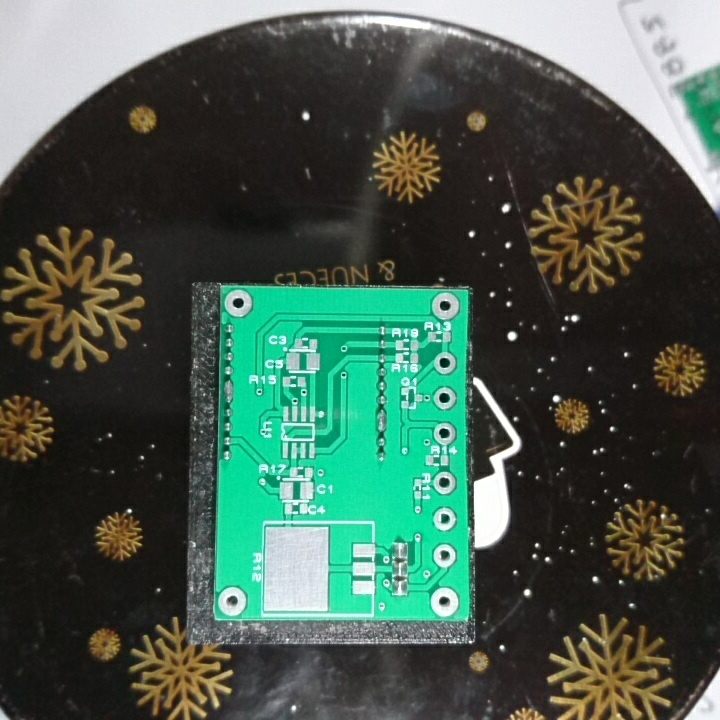F: (218, 585, 251, 620), (428, 586, 462, 619), (222, 288, 254, 318), (429, 292, 462, 319), (433, 468, 459, 500), (431, 506, 459, 535), (431, 384, 459, 412), (432, 420, 459, 448), (431, 541, 458, 569), (433, 349, 459, 378)
P: (374, 407, 391, 432), (221, 378, 237, 404)
